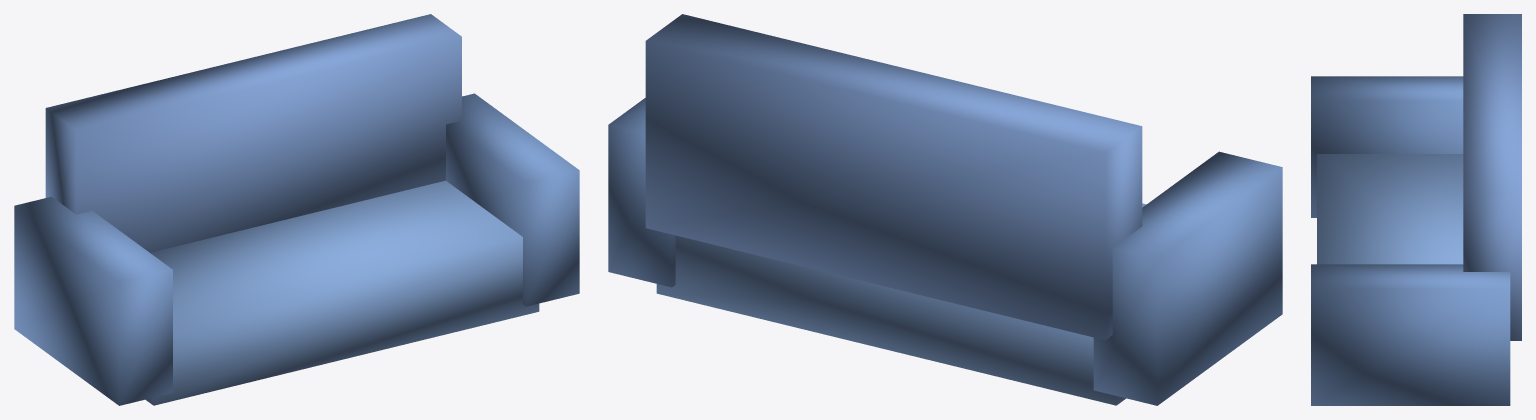
The model's file is sofa.glb.
The picture shows the model from 3 angles, left to right: view 1: azimuth 30°, elevation 25°; view 2: azimuth 150°, elevation 25°; view 3: azimuth 270°, elevation 25°; orthographic projection. The views are drawn at different scales.
Parts seen in each view (by area): view 1: back, seat, arm_l, arm_r; view 2: back, arm_l, seat, arm_r; view 3: arm_r, seat, back, arm_l.
Part boxes in pixels (<box>): back: <box>45,14,461,252</box>; seat: <box>146,180,539,405</box>; arm_l: <box>14,196,172,405</box>; arm_r: <box>446,93,579,306</box>; back: <box>645,14,1142,340</box>; arm_l: <box>1093,151,1282,405</box>; seat: <box>656,203,1146,405</box>; arm_r: <box>608,98,675,287</box>; arm_r: <box>1311,264,1510,405</box>; seat: <box>1317,154,1463,264</box>; back: <box>1463,14,1521,340</box>; arm_l: <box>1311,76,1463,217</box>.
Size of the model in its own units: 2.15 by 0.975 by 0.9.
